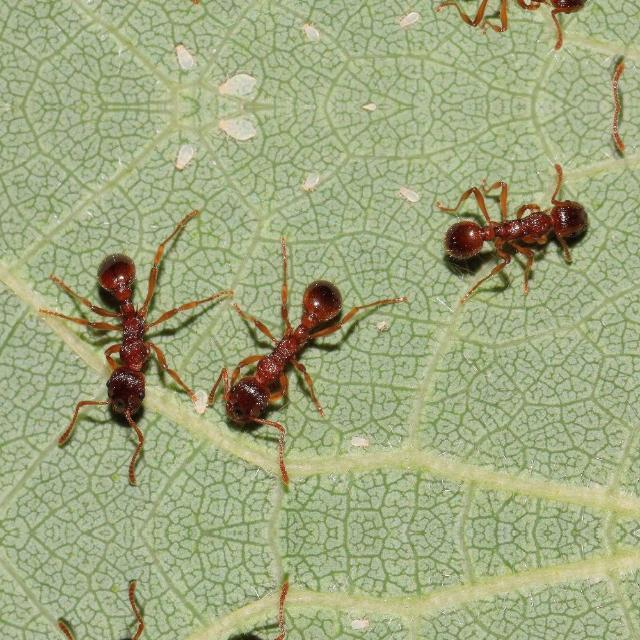Myrmica: (190, 241, 396, 471), (57, 222, 197, 438), (442, 156, 632, 290), (442, 0, 632, 56), (190, 592, 396, 640)
